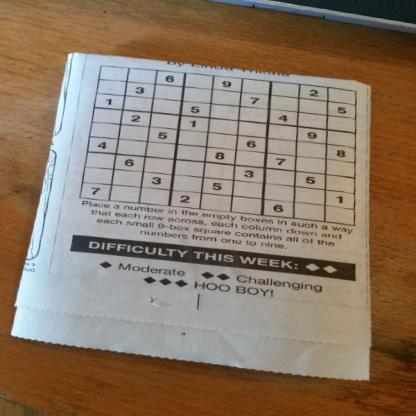sudoku: (75, 62, 362, 231)
